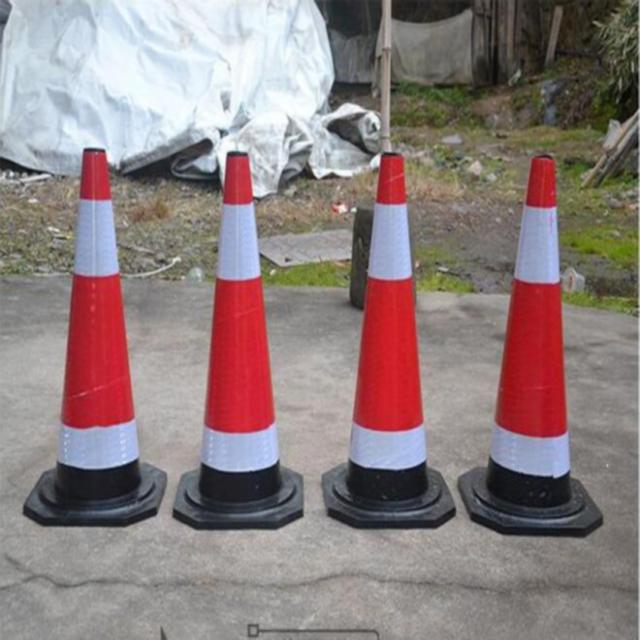reflective_cone: (458, 153, 606, 534), (20, 139, 165, 524), (318, 153, 455, 531), (172, 150, 302, 532)
